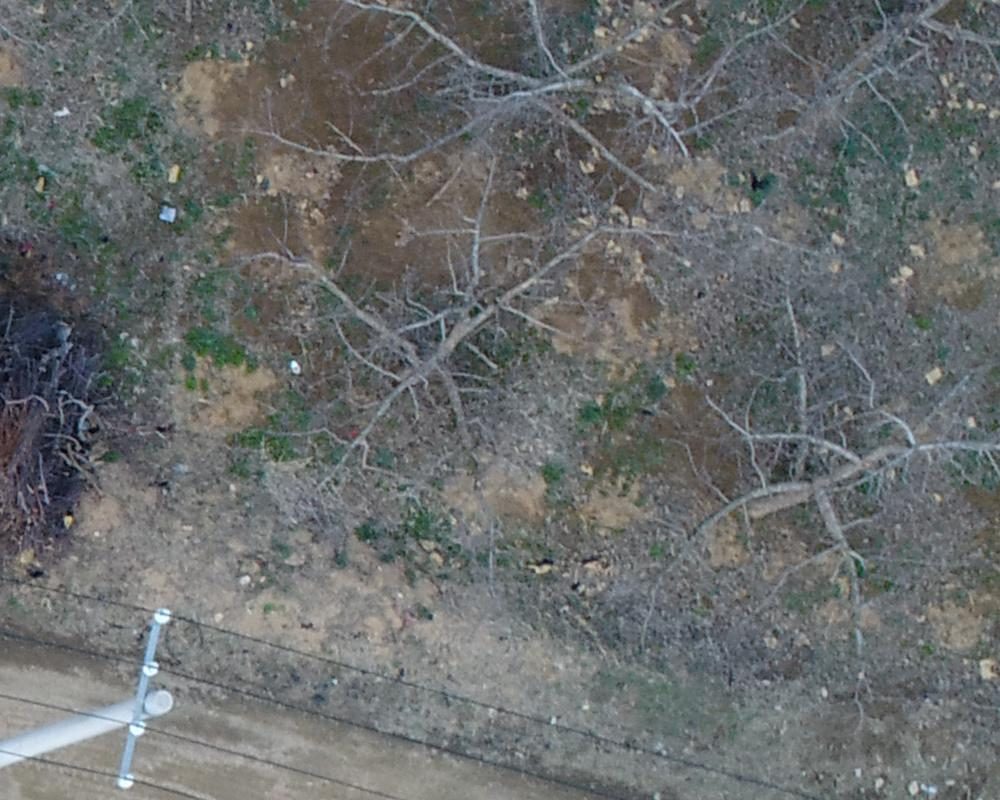apple: (662, 298, 990, 677), (254, 176, 636, 471), (309, 10, 736, 216)
